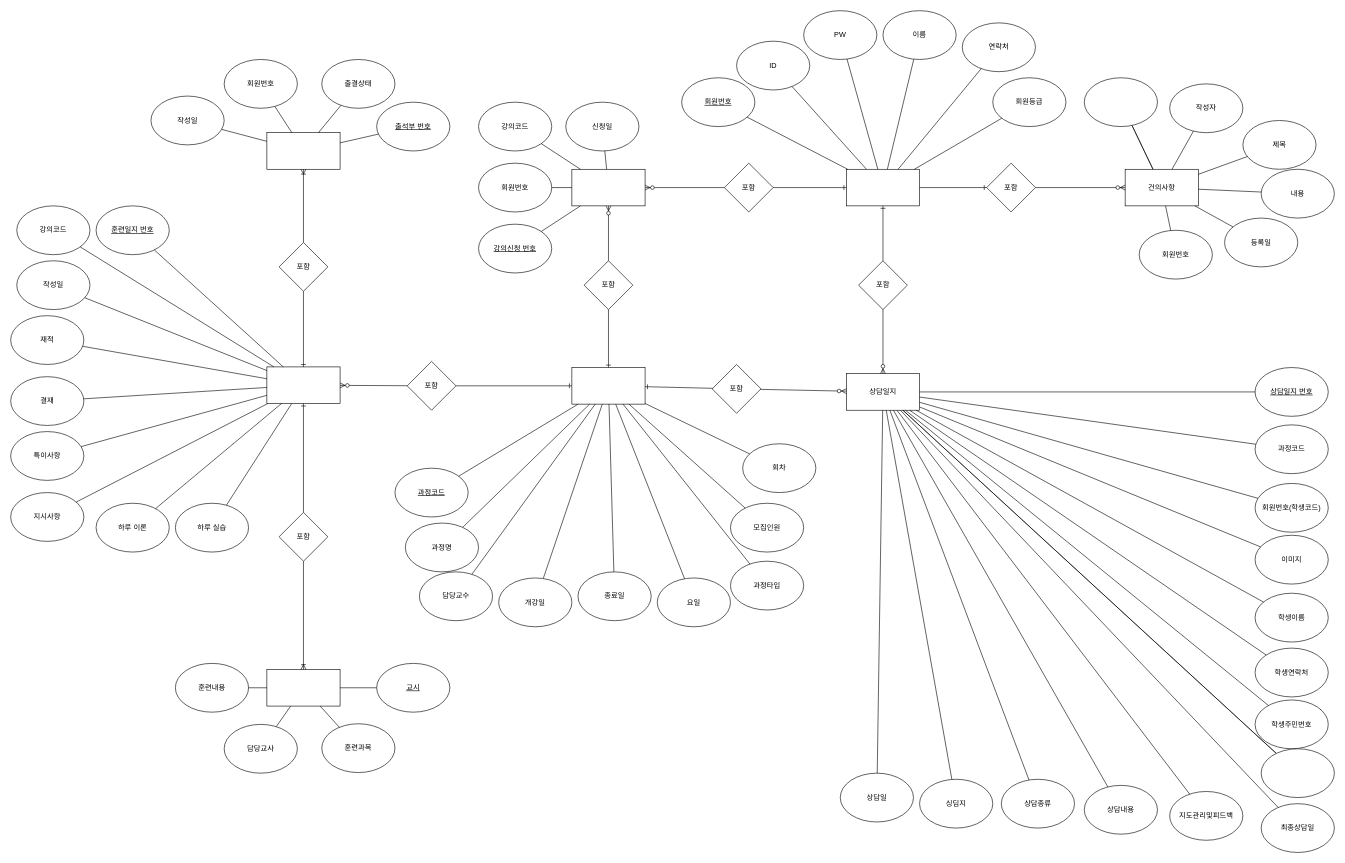
Image size: 1345x863. Some labels were removed from this diagram. Here are the shapes that lost their labels. From the top down, the box of each, then its label:
(1084, 77, 1157, 127): 건의사항 번호
(266, 132, 340, 169): 출석부
(571, 169, 645, 206): 강의신청
(846, 169, 920, 206): 회원
(266, 366, 340, 404): 훈련일지
(571, 367, 645, 404): 강의
(266, 669, 340, 706): 훈련사항
(1261, 748, 1334, 798): 상태
